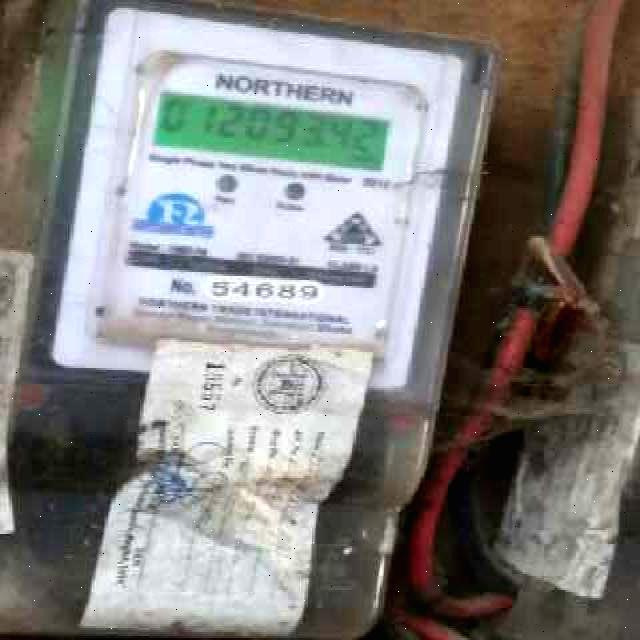LCD: (150, 84, 399, 181)
